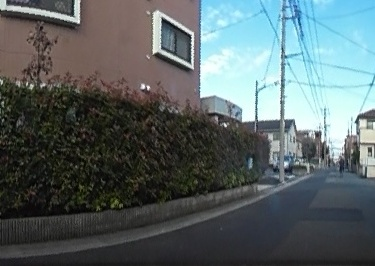person: (338, 154, 345, 175)
